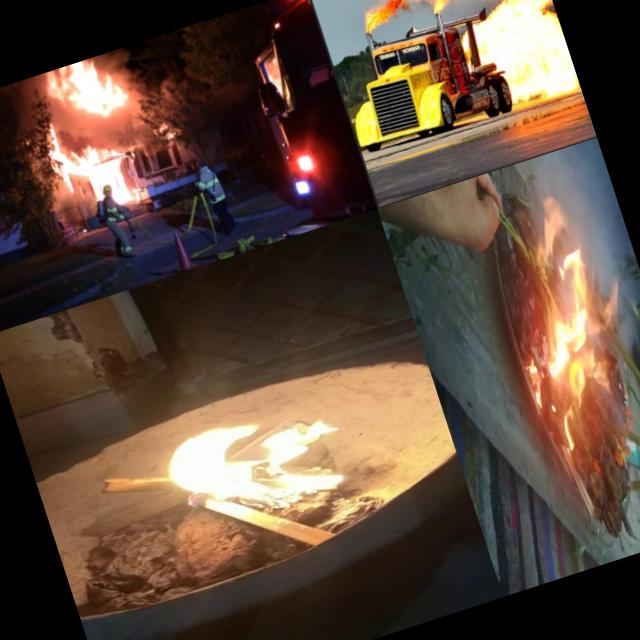fire: (148, 390, 362, 548), (478, 0, 582, 113), (562, 374, 632, 499), (35, 49, 134, 128), (346, 0, 545, 37), (599, 374, 640, 548), (568, 282, 618, 384), (56, 137, 133, 194)
smoke: (502, 220, 594, 387), (52, 101, 148, 157)
